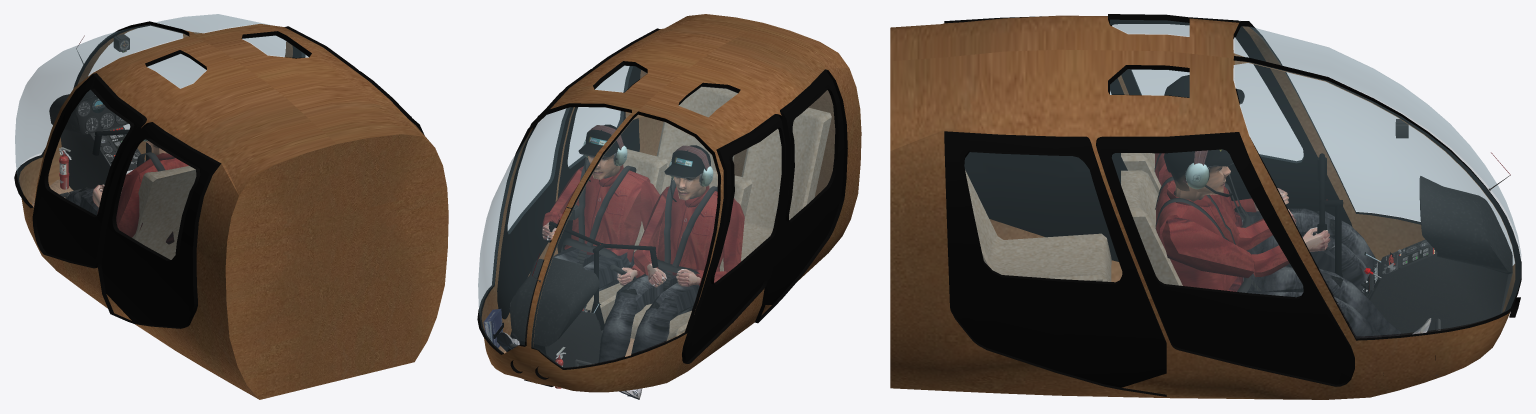
Rendered from r44-cockpit.glb.
3 views of the same model, side by side, from view 1: azimuth 30°, elevation 25°; view 2: azimuth 150°, elevation 25°; view 3: azimuth 270°, elevation 25° (orthographic). The views are drawn at different scales.
Visible parts, largest first — view 1: m2__interieur, m2__intporteBG, m2__HDRintvitres, m2__intvitres, m2__intporteAG, m2__HDRintvitreBG, m2__HDRintvitreAG, m55__seat, m4__panel, m2__inttour, m61__brasG, m61__corps (+2 smaller); view 2: m2__HDRintvitres, m2__interieur, m2__intporteAG, m2__intporteBG, m4__panel, m57__seat, m60__corps, m2__intporteAD, m2__inttour, m2__HDRintvitreAG, m61__corps, m2__HDRintvitreBG (+21 smaller); view 3: m2__interieur, m2__HDRintvitres, m2__intporteBD, m2__intporteAD, m2__intvitres, m2__HDRintvitreAD, m4__panel, m2__HDRintvitreBD, m2__intporteBG, m57__seat, m2__intporteAG, m2__inttour (+17 smaller).
Boxes of the visible parts, box(x1,y1,x2,y2) form: m2__interieur: box(19, 24, 448, 399); m2__intporteBG: box(98, 122, 221, 328); m2__HDRintvitres: box(15, 14, 307, 203); m2__intvitres: box(15, 14, 285, 173); m2__intporteAG: box(32, 73, 146, 268); m2__HDRintvitreBG: box(117, 140, 195, 258); m2__HDRintvitreAG: box(49, 90, 129, 214); m55__seat: box(132, 166, 196, 259); m4__panel: box(49, 89, 145, 190); m2__inttour: box(14, 21, 311, 328); m61__brasG: box(116, 170, 142, 237); m61__corps: box(123, 152, 188, 244); m2__HDRintvitres: box(478, 66, 736, 366); m2__interieur: box(481, 14, 861, 392); m2__intporteAG: box(682, 114, 789, 363); m2__intporteBG: box(755, 69, 847, 323); m4__panel: box(509, 257, 604, 386); m57__seat: box(741, 107, 831, 261); m60__corps: box(561, 159, 650, 265); m2__intporteAD: box(497, 69, 594, 319); m2__inttour: box(477, 61, 847, 379); m2__HDRintvitreAG: box(714, 129, 780, 281); m61__corps: box(657, 179, 734, 291); m2__HDRintvitreBG: box(789, 91, 834, 219); m2__interieur: box(890, 15, 1515, 399); m2__HDRintvitres: box(1110, 20, 1520, 335); m2__intporteBD: box(944, 131, 1166, 396); m2__intporteAD: box(1096, 132, 1354, 386); m2__intvitres: box(1250, 27, 1520, 265); m2__HDRintvitreAD: box(1112, 150, 1302, 296); m4__panel: box(1369, 176, 1512, 335); m2__HDRintvitreBD: box(965, 153, 1121, 281); m2__intporteBG: box(944, 16, 1127, 261); m57__seat: box(965, 170, 1111, 281); m2__intporteAG: box(1110, 17, 1352, 226); m2__inttour: box(944, 14, 1521, 394).
Size of the model in its own units: 1.33 by 1.34 by 2.4.
Materials: 55 (38 with a texture image).
